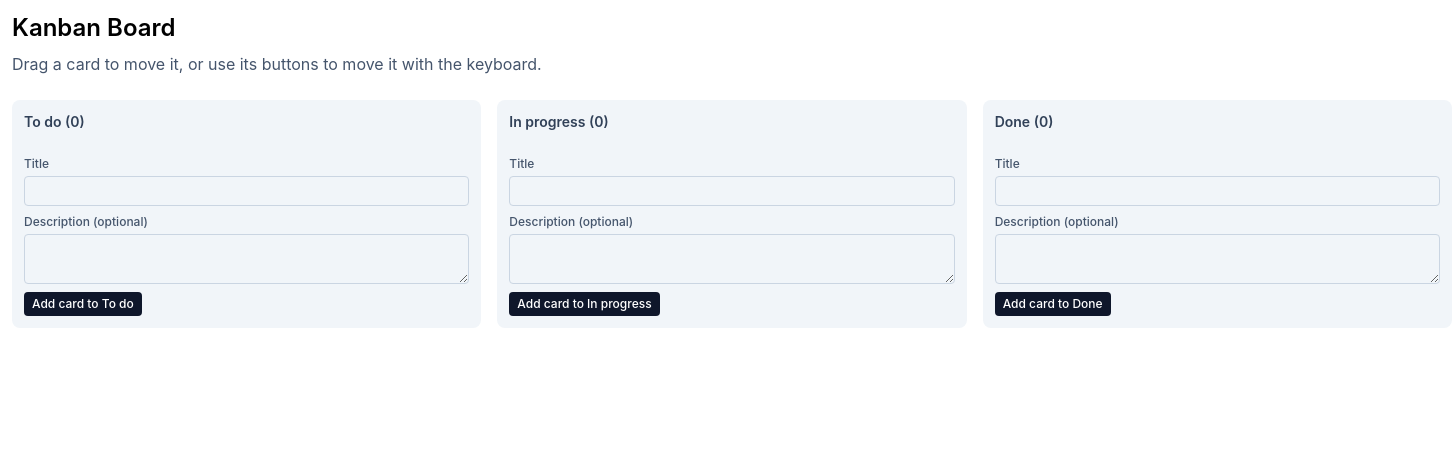
Test: moves a card to another column via the keyboard menu, updating both columns and counts
Type "Move me" into the 1st field labelled "Title" at (247, 191), box [24,176,469,206]
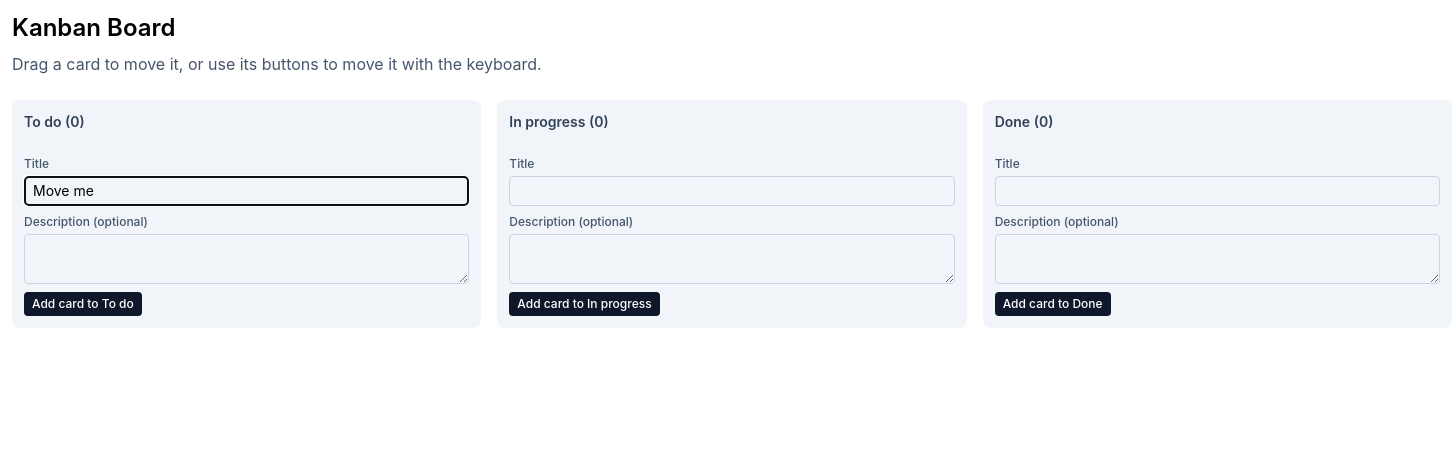
Click the button "Add card to To do" at (83, 304), box [24,292,142,316]
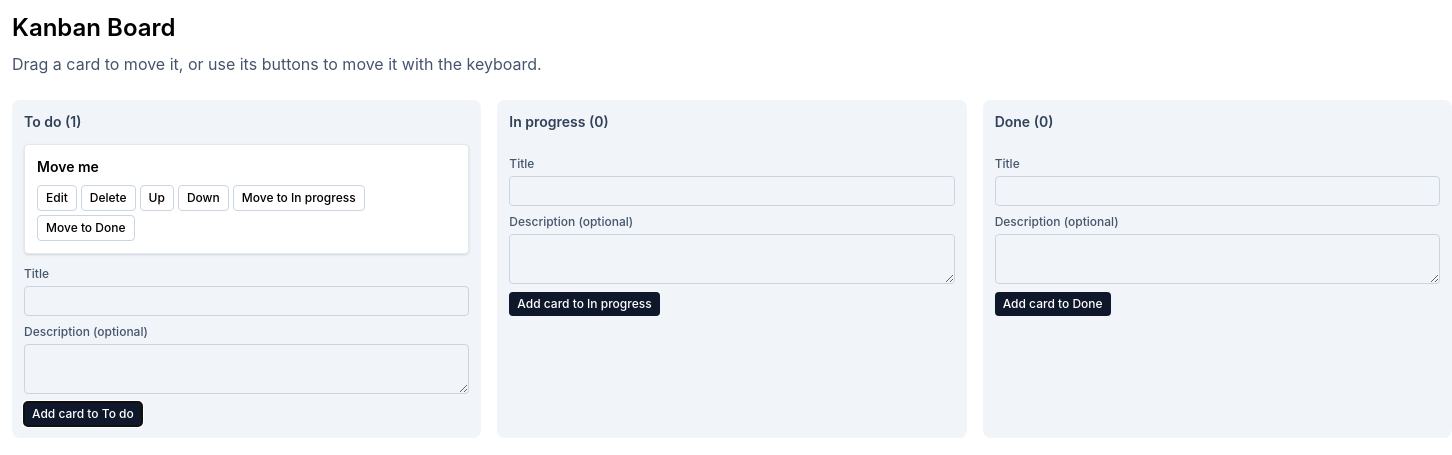
Expected: the heading "In progress (0)" is shown, [509,113,609,130]
Result: the heading "To do (1)" is shown at [24,113,81,130]
Click the button named "Move \"Move me\" to In progress" at (299, 198), box [233,185,365,211]
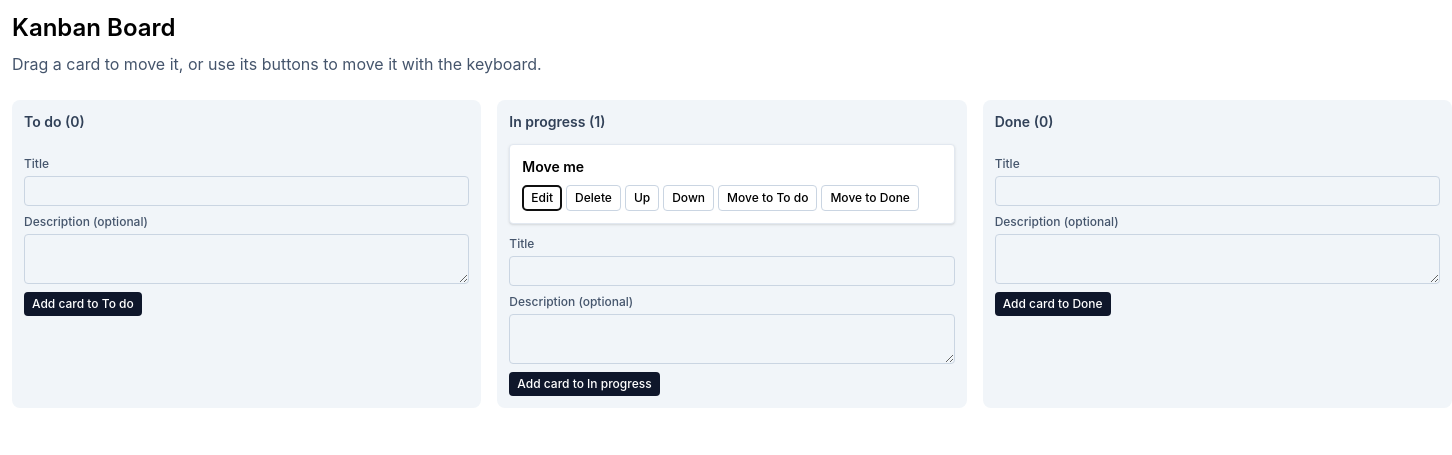
Result: the heading "Move me" is shown at [522,158,584,175]
Result: the heading "To do (0)" is shown at [24,113,85,130]
Result: the heading "In progress (1)" is shown at [509,113,605,130]
